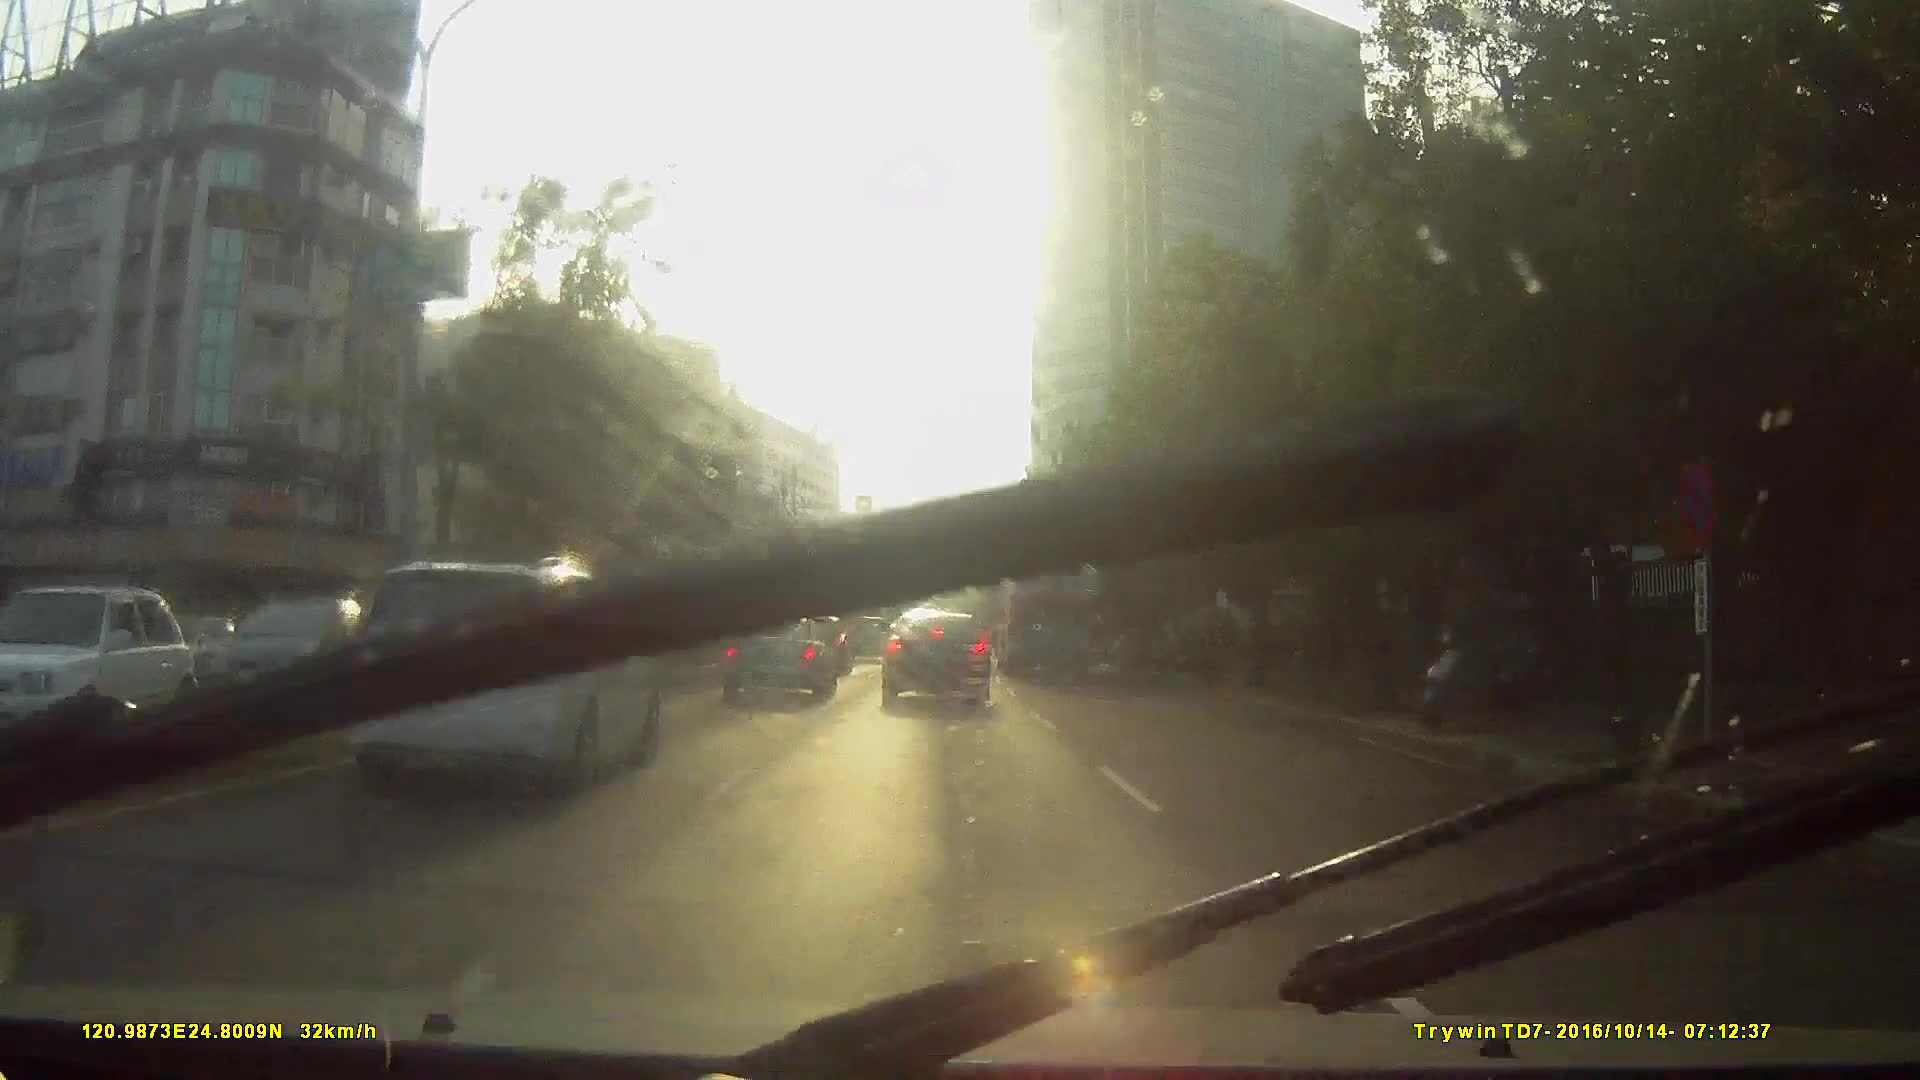vehicle: (251, 556, 684, 868), (334, 554, 659, 794), (4, 582, 233, 764), (206, 599, 382, 713), (1000, 549, 1109, 680), (877, 605, 992, 708), (717, 609, 837, 702), (847, 615, 893, 665)
